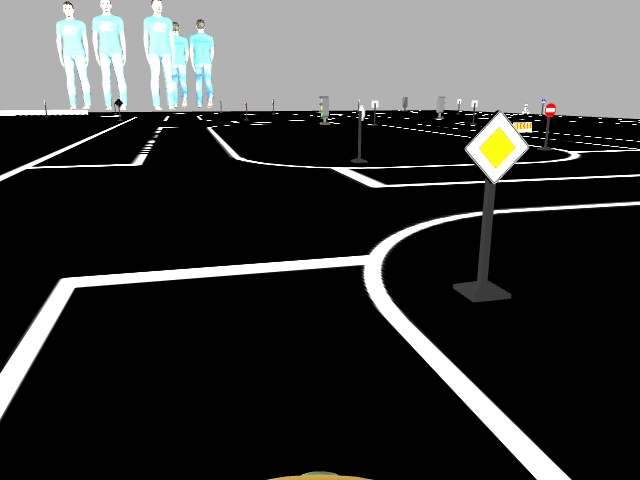Priority: (465, 108, 531, 183)
